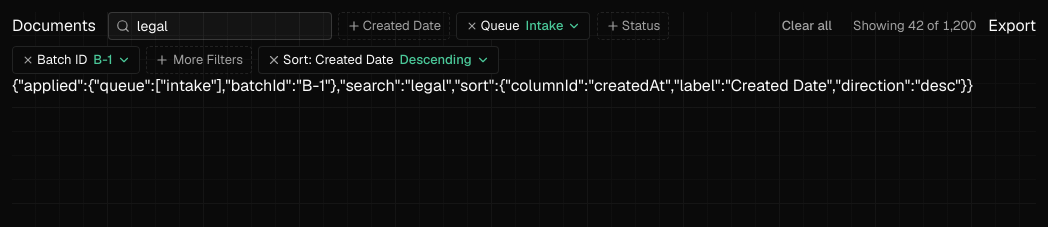
Test: FilterBar layout (SPEC §4) › [T] Clear all clears filters, not the search text and not the sort
What coordinates should you click on to do the following:
click the button "Clear all"
I would click on:
 (807, 26)
Its box is [773,12,841,40].
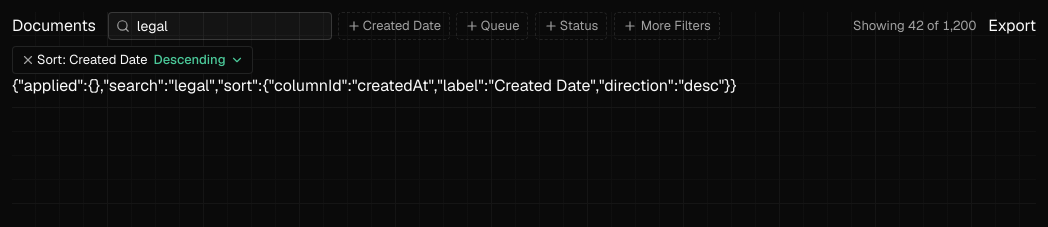
Expected: the search field holds "legal", [108,12,332,40]
Expected: the button "Clear all" is gone
